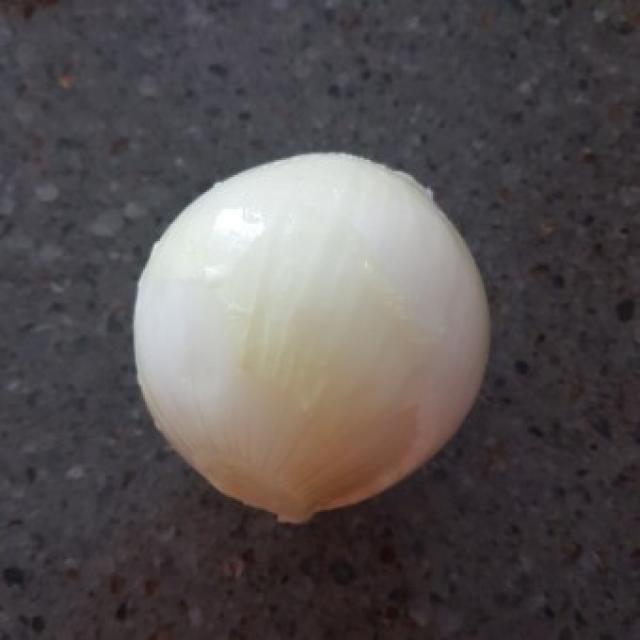onion: (102, 131, 556, 546)
